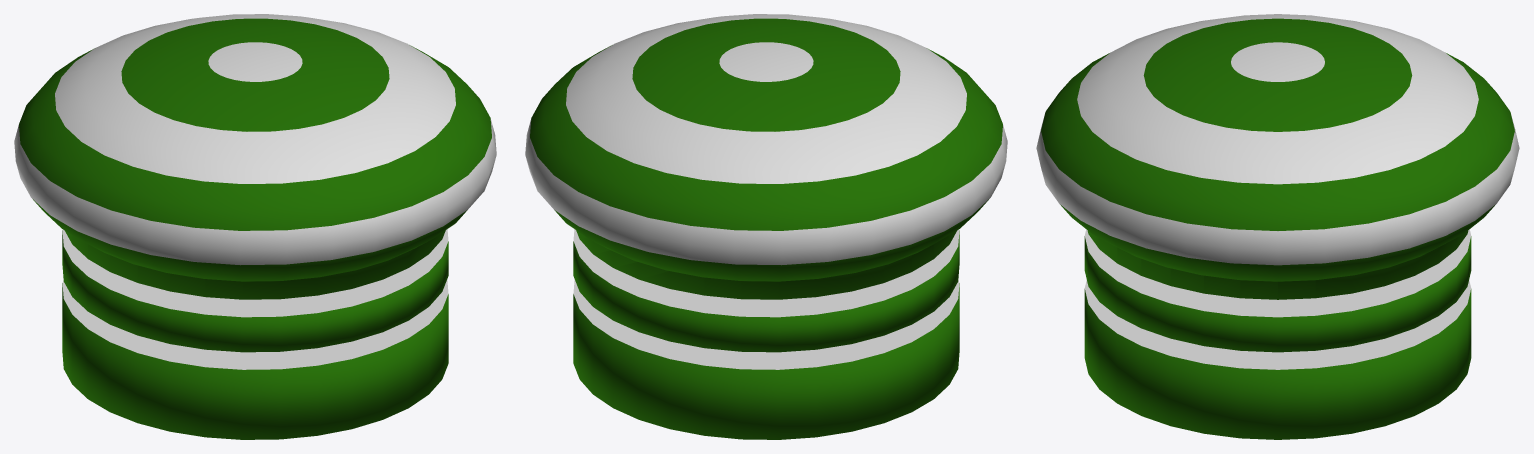
The model's file is Trampoline.fbx.
3 renders of one model, left to right at view 1: azimuth 30°, elevation 25°; view 2: azimuth 150°, elevation 25°; view 3: azimuth 270°, elevation 25°, orthographic.
Parts seen in each view (by area): view 1: Trampoline_LOD0; view 2: Trampoline_LOD0; view 3: Trampoline_LOD0.
Part boxes in pixels (x1,y1,x2,y2): Trampoline_LOD0: (14,14,496,439); Trampoline_LOD0: (525,14,1007,439); Trampoline_LOD0: (1036,14,1519,439).
Size of what is drawn, in the model's own units: 250 by 170 by 250.
